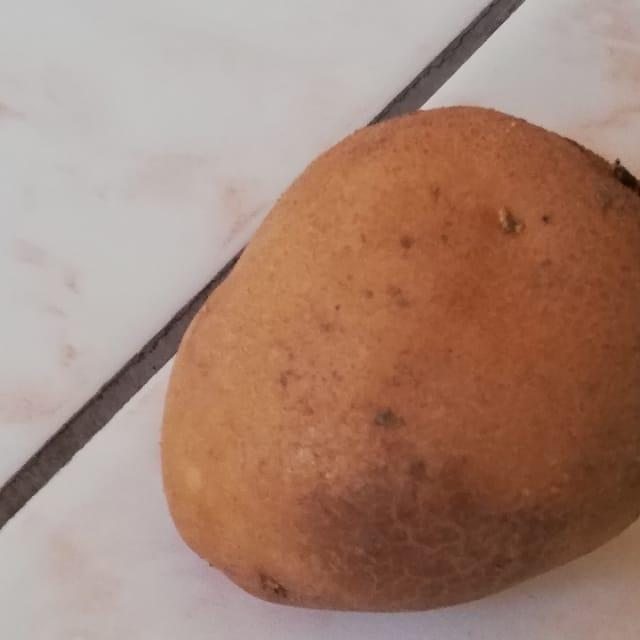potato: (148, 69, 640, 640)
